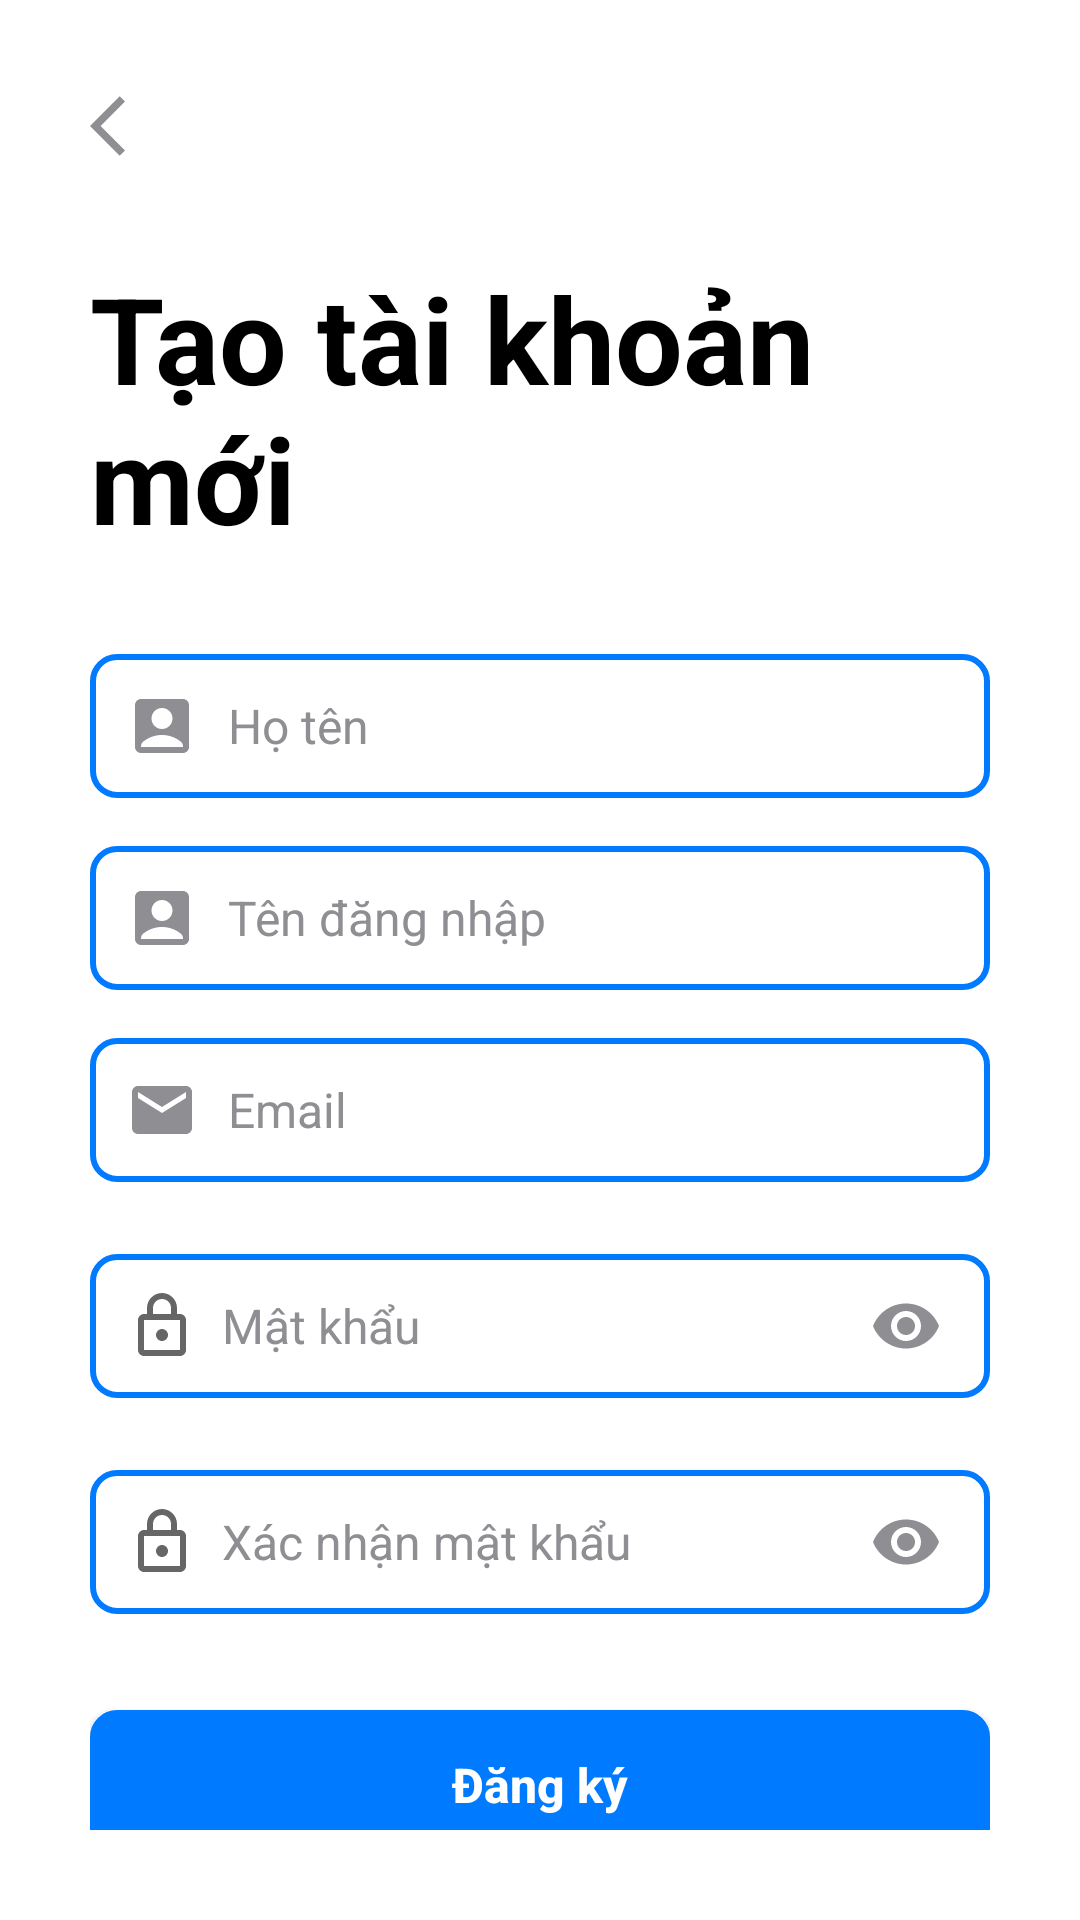

Named icons in this screenshot (1080px x 1920px) and their bounding boxes, (x1, y1, x2, y2):
eye: (873, 1303, 939, 1349), (873, 1519, 939, 1565)
Quay lại: (90, 96, 125, 156)
